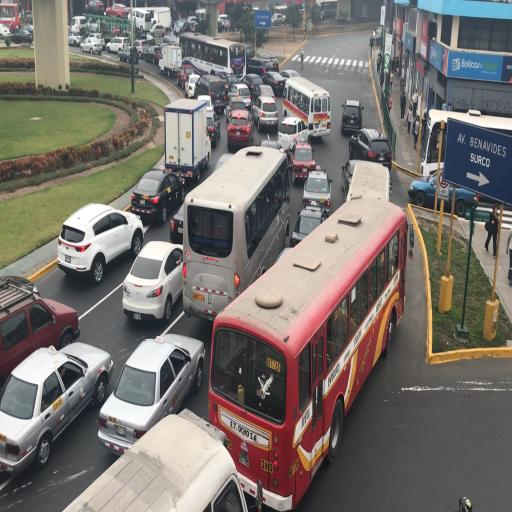auto: (56, 409, 243, 509), (1, 342, 113, 479), (98, 329, 208, 451), (1, 274, 78, 394), (57, 197, 143, 280), (120, 240, 188, 323), (130, 167, 184, 226), (341, 156, 384, 204), (347, 126, 390, 171), (288, 204, 328, 248), (301, 165, 332, 214), (289, 140, 319, 184), (276, 114, 306, 156), (196, 73, 226, 113), (226, 108, 253, 151), (252, 94, 278, 132), (226, 90, 252, 125), (340, 98, 361, 137), (242, 71, 266, 102), (261, 70, 287, 96), (258, 137, 284, 161), (206, 109, 220, 148), (179, 63, 198, 91), (79, 34, 103, 54), (256, 53, 278, 73), (118, 44, 140, 63), (106, 36, 129, 54), (8, 27, 32, 44), (143, 44, 163, 64), (132, 39, 152, 59), (106, 2, 130, 18), (279, 69, 301, 86), (84, 14, 102, 34), (146, 24, 166, 40), (204, 126, 212, 166), (71, 16, 87, 35), (84, 0, 105, 14), (173, 19, 188, 36), (68, 32, 84, 47), (160, 35, 178, 48), (184, 16, 198, 32), (127, 10, 143, 24), (142, 32, 156, 46), (0, 22, 10, 38), (158, 54, 166, 74), (218, 14, 230, 26), (222, 17, 231, 32), (25, 11, 33, 25)
bus: (209, 172, 392, 495), (417, 106, 511, 206), (280, 74, 330, 141), (179, 33, 240, 80), (0, 2, 20, 34), (314, 0, 337, 20), (272, 4, 288, 24), (194, 8, 206, 22)
camion: (157, 44, 182, 76)
